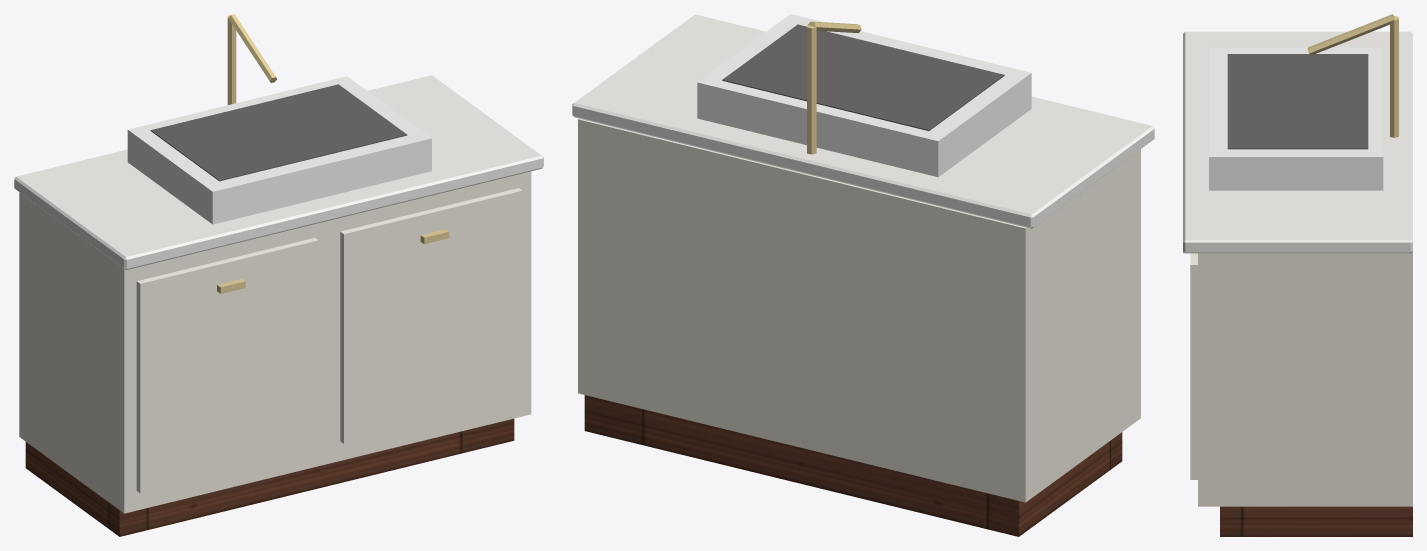
The model's file is counter_sink.glb.
The picture shows the model from 3 angles, left to right: view 1: azimuth 30°, elevation 25°; view 2: azimuth 150°, elevation 25°; view 3: azimuth 270°, elevation 25°; orthographic projection. The views are drawn at different scales.
Visible parts, largest first — view 1: counter_sink_cream, counter_sink_marble_w, counter_sink_porcelain, counter_sink_dark, counter_sink_dkwood, counter_sink_brass; view 2: counter_sink_cream, counter_sink_marble_w, counter_sink_dkwood, counter_sink_porcelain, counter_sink_dark, counter_sink_brass; view 3: counter_sink_cream, counter_sink_marble_w, counter_sink_dark, counter_sink_porcelain, counter_sink_dkwood, counter_sink_brass.
Boxes of the visible parts, x1=… form: counter_sink_cream: x1=19, y1=171, x2=531, y2=513; counter_sink_marble_w: x1=14, y1=75, x2=543, y2=269; counter_sink_porcelain: x1=127, y1=76, x2=431, y2=224; counter_sink_dark: x1=150, y1=84, x2=407, y2=181; counter_sink_dkwood: x1=25, y1=418, x2=514, y2=536; counter_sink_brass: x1=217, y1=14, x2=449, y2=293; counter_sink_cream: x1=578, y1=118, x2=1140, y2=502; counter_sink_marble_w: x1=572, y1=14, x2=1154, y2=228; counter_sink_dkwood: x1=584, y1=395, x2=1122, y2=536; counter_sink_porcelain: x1=697, y1=14, x2=1031, y2=177; counter_sink_dark: x1=722, y1=24, x2=1004, y2=130; counter_sink_brass: x1=807, y1=21, x2=861, y2=154; counter_sink_cream: x1=1190, y1=251, x2=1412, y2=506; counter_sink_marble_w: x1=1183, y1=31, x2=1412, y2=253; counter_sink_dark: x1=1227, y1=54, x2=1368, y2=149; counter_sink_porcelain: x1=1209, y1=47, x2=1383, y2=190; counter_sink_dkwood: x1=1220, y1=506, x2=1412, y2=536; counter_sink_brass: x1=1183, y1=14, x2=1398, y2=253.
Size of the model in its own units: 1.34 by 1.26 by 0.62.
Materials: 6 (1 with a texture image).
